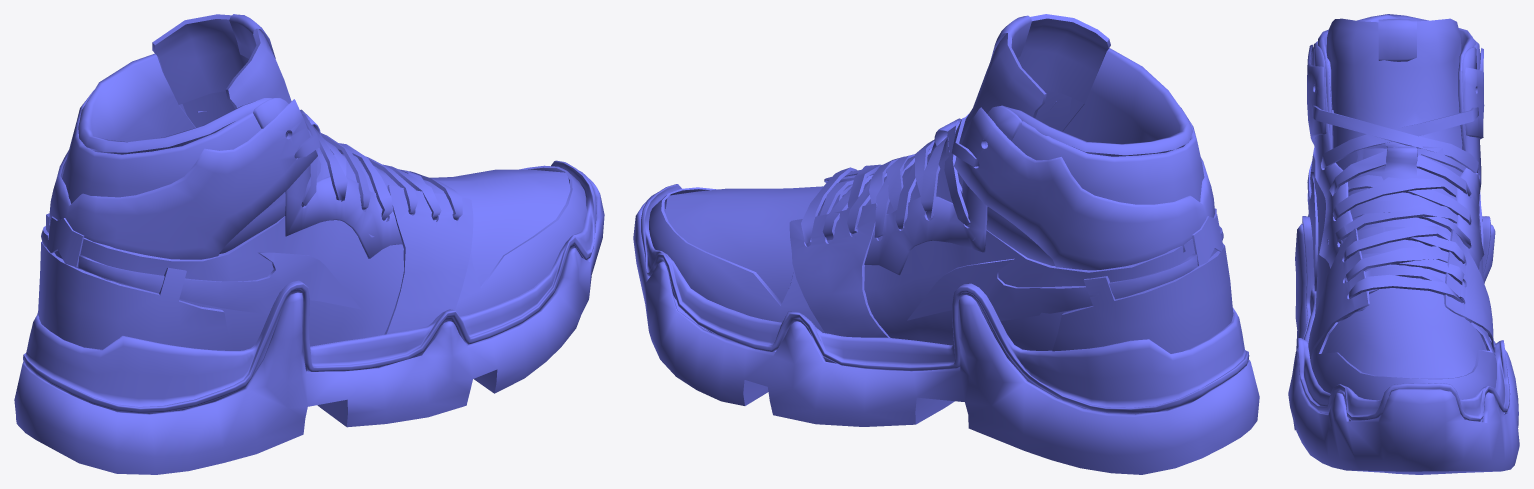
Rendered from sneaks-old.glb.
3 renders of one model, left to right at view 1: azimuth 30°, elevation 25°; view 2: azimuth 150°, elevation 25°; view 3: azimuth 270°, elevation 25°, orthographic. The views are drawn at different scales.
Visible parts, largest first — view 1: Object_2; view 2: Object_2; view 3: Object_2.
Part boxes in pixels (x1,y1,x2,y2): Object_2: [14, 14, 604, 474]; Object_2: [633, 14, 1259, 474]; Object_2: [1288, 14, 1519, 474].
Size of the model in its own units: 30.86 by 19.55 by 11.95.
